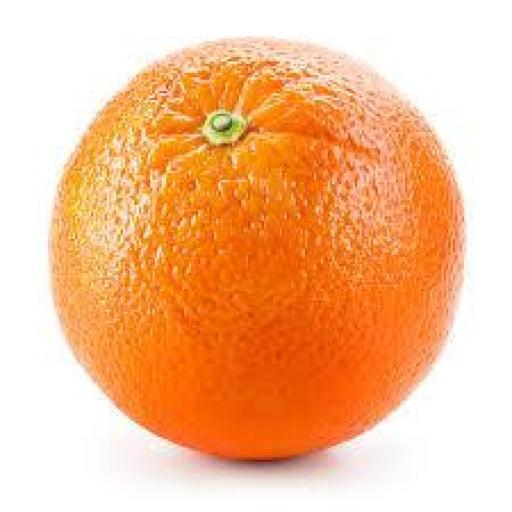orange: (51, 39, 464, 459)
